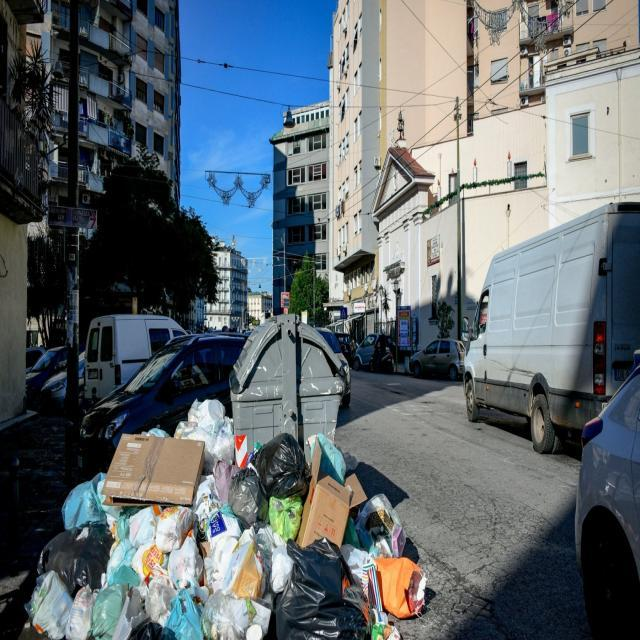garbage: (21, 324, 438, 640)
